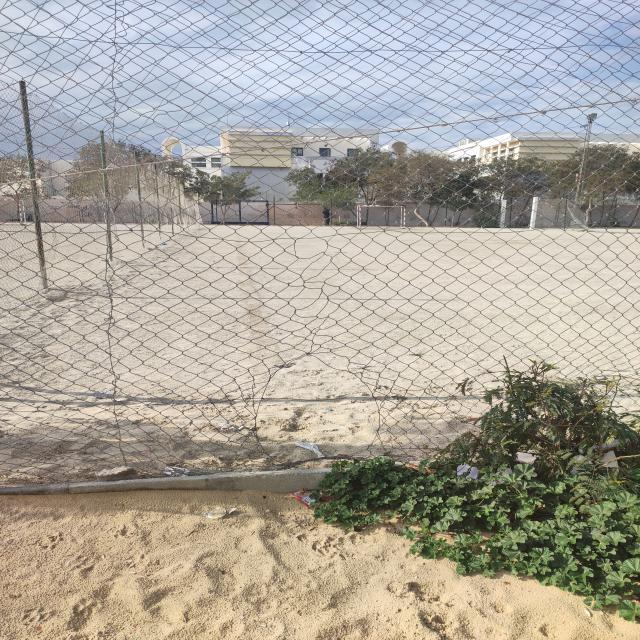fence line: (235, 341, 424, 470)
